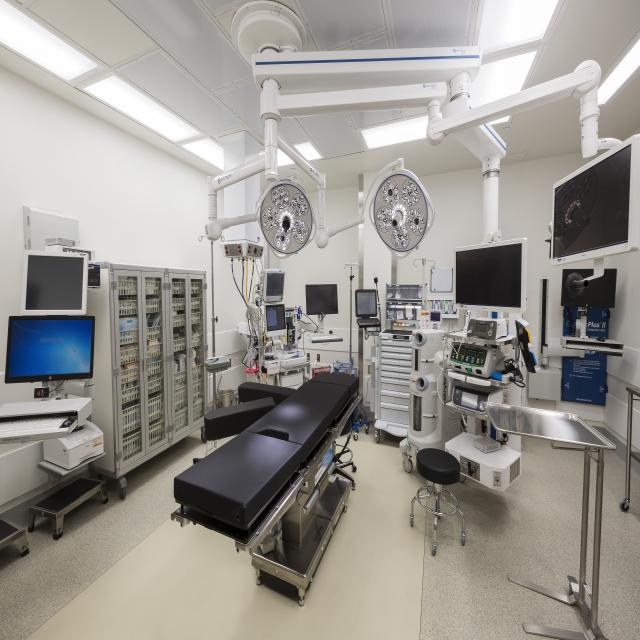cardiac_monitor: (20, 245, 108, 416), (546, 175, 640, 269), (451, 240, 526, 319)
lightings: (374, 170, 441, 275), (269, 180, 316, 279)
patient_bed: (182, 367, 360, 603)
